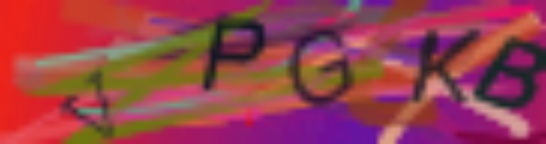B: (475, 33, 546, 108)
G: (286, 27, 354, 110)
K: (407, 27, 481, 106)
P: (200, 20, 269, 95)
V: (60, 66, 120, 144)
